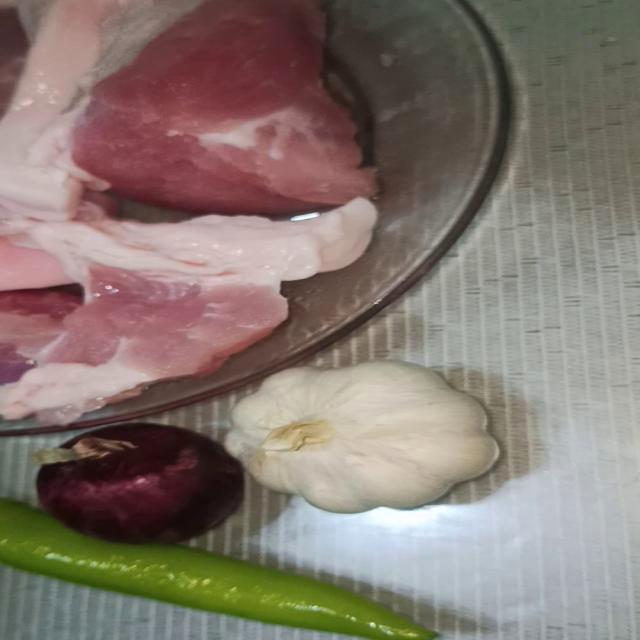chili_pepper: (0, 478, 504, 640)
garlic: (210, 368, 504, 517)
onion: (12, 415, 261, 577)
pork: (0, 199, 424, 424), (0, 3, 385, 192)
